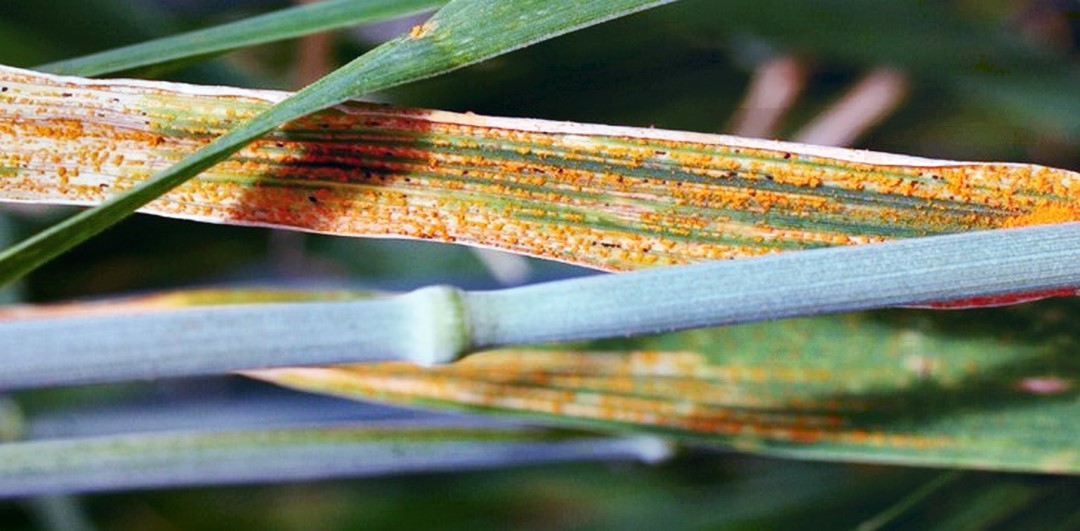Leaf Rust: (10, 73, 980, 252)
